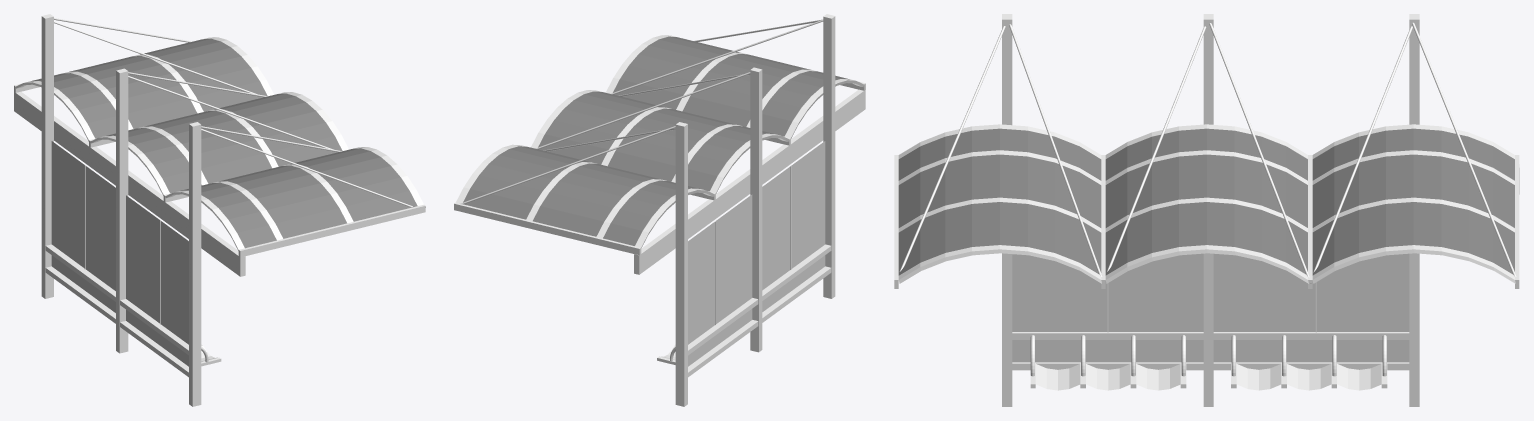
3 renders of one model, left to right at view 1: azimuth 30°, elevation 25°; view 2: azimuth 150°, elevation 25°; view 3: azimuth 270°, elevation 25°, orthographic. The views are drawn at different scales.
Visible parts, largest first — view 1: vidrosemtu_transparent__2, pontoemtu_1, bancosemtu_0; view 2: vidrosemtu_transparent__2, pontoemtu_1, bancosemtu_0; view 3: vidrosemtu_transparent__2, pontoemtu_1, bancosemtu_0.
Part boxes in pixels (x1,y1,x2,y2): vidrosemtu_transparent__2: [31, 38, 417, 366]; pontoemtu_1: [14, 14, 425, 406]; bancosemtu_0: [45, 165, 221, 377]; vidrosemtu_transparent__2: [463, 36, 849, 366]; pontoemtu_1: [454, 14, 865, 406]; bancosemtu_0: [657, 166, 831, 377]; vidrosemtu_transparent__2: [898, 128, 1514, 362]; pontoemtu_1: [894, 14, 1519, 406]; bancosemtu_0: [1012, 282, 1409, 390].
Bounding box in the file's own units: 2.68 × 3.69 × 5.41.
2 materials, 1 textured.
